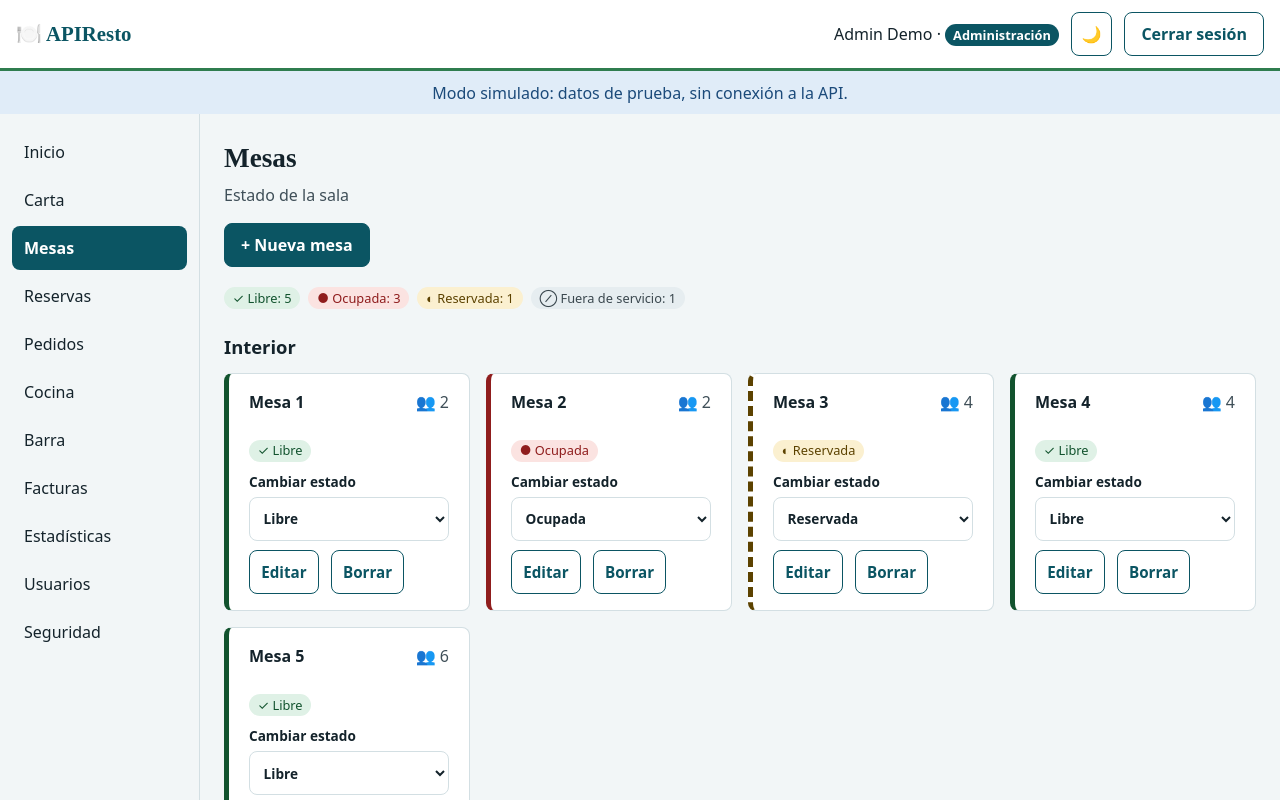
Test: formularios en ventana modal › Escape cierra el modal
Click the button "+ Nueva mesa". click: (297, 245)
box: x1=224 y1=223 x2=370 y2=267
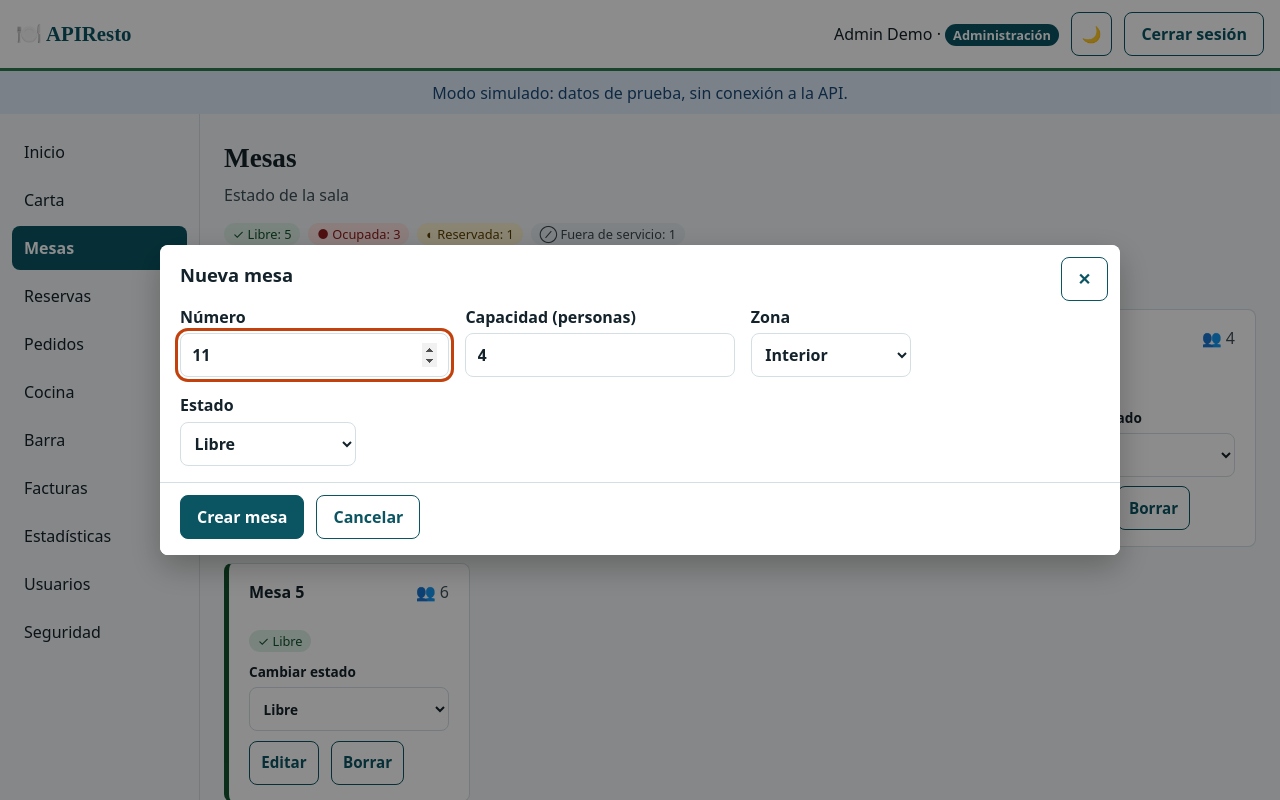
Expected: the dialog "Nueva mesa" is shown, x1=160 y1=245 x2=1120 y2=555
Press Escape
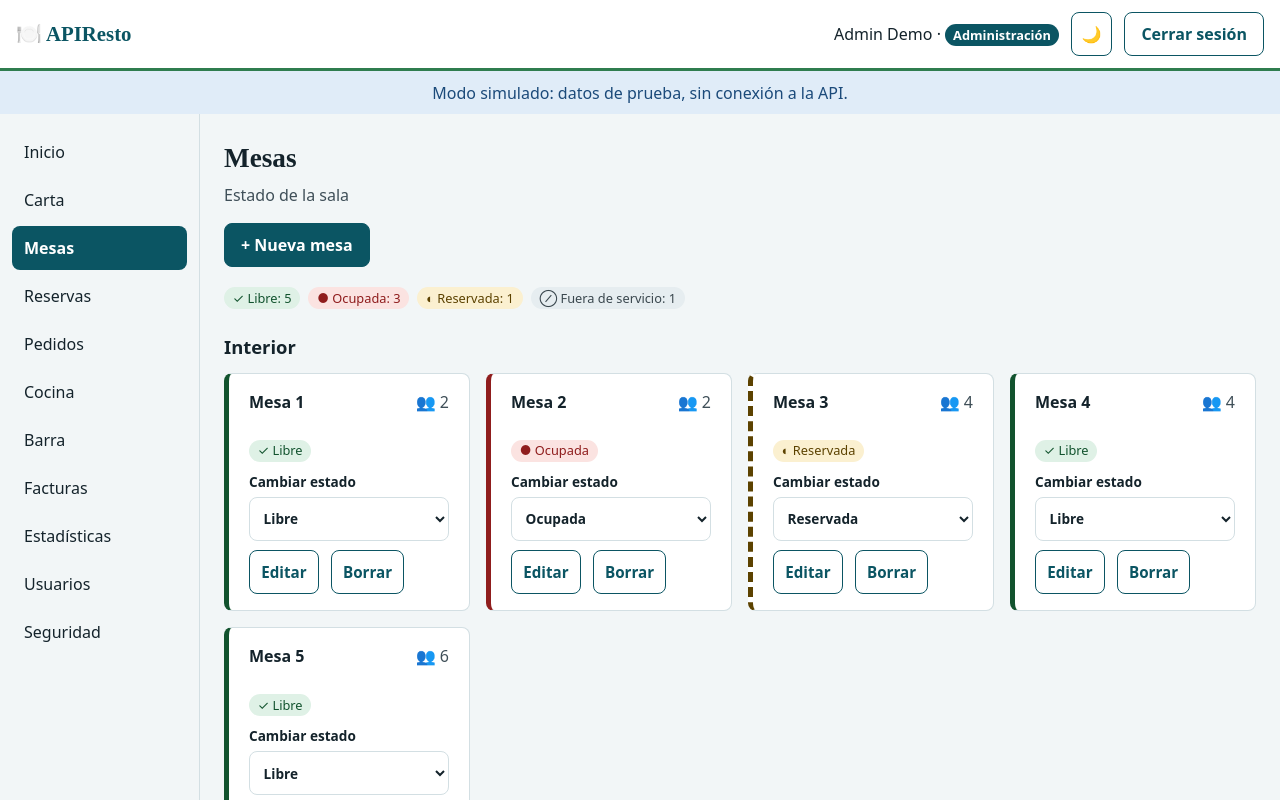
Expected: the dialog is gone
